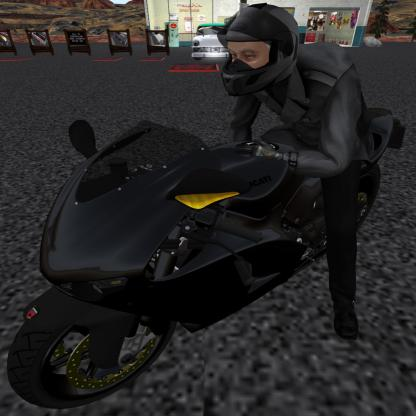Helmet: (210, 0, 306, 96)
